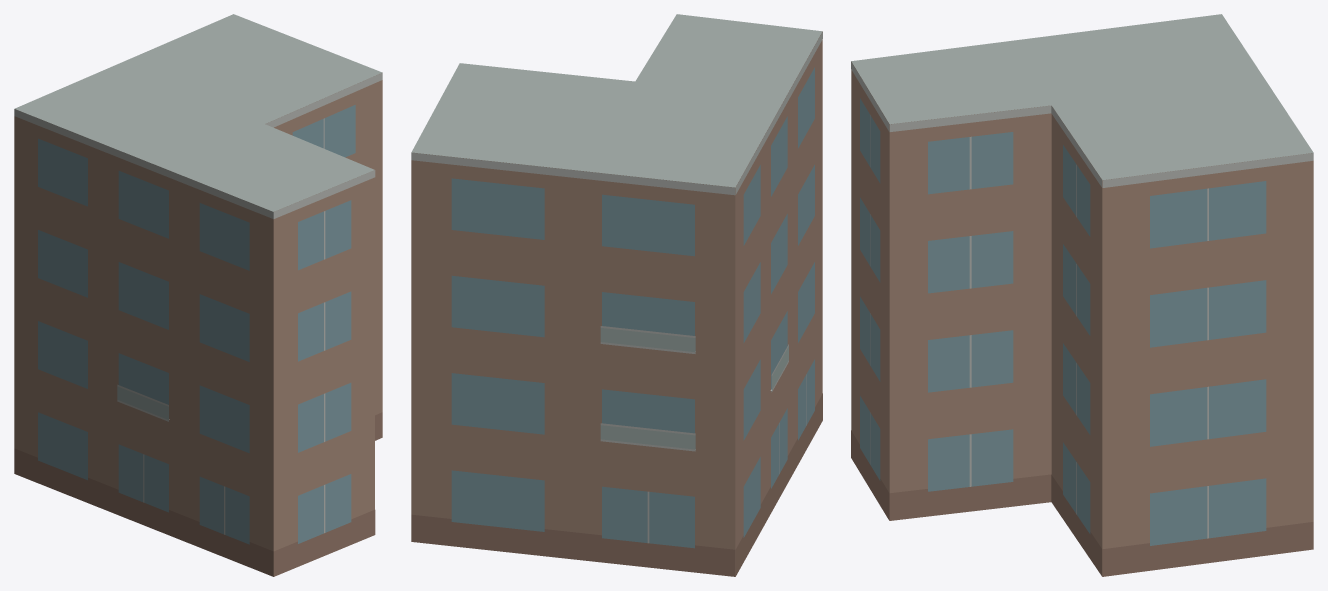
Rendered from survey-upis-32522912.glb.
3 views of the same model, side by side, from view 1: azimuth 30°, elevation 25°; view 2: azimuth 150°, elevation 25°; view 3: azimuth 270°, elevation 25° (orthographic). The views are drawn at different scales.
Visible parts, largest first — view 1: survey-upis-32522912.tmp; view 2: survey-upis-32522912.tmp; view 3: survey-upis-32522912.tmp.
Part boxes in pixels (left/top/right/bottom): survey-upis-32522912.tmp: left=14, top=14, right=382, bottom=576; survey-upis-32522912.tmp: left=411, top=14, right=822, bottom=576; survey-upis-32522912.tmp: left=851, top=14, right=1313, bottom=576.
Bounding box in the file's own units: 10.97 × 12.2 × 12.9.
